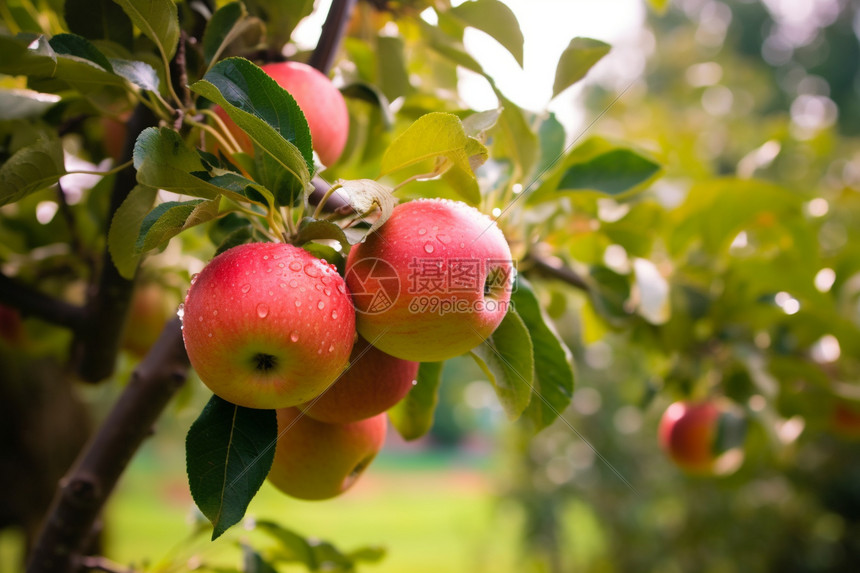Apple: (178, 238, 356, 410), (346, 195, 513, 362), (205, 59, 351, 182), (295, 309, 418, 420), (256, 402, 387, 502), (658, 386, 762, 477)
